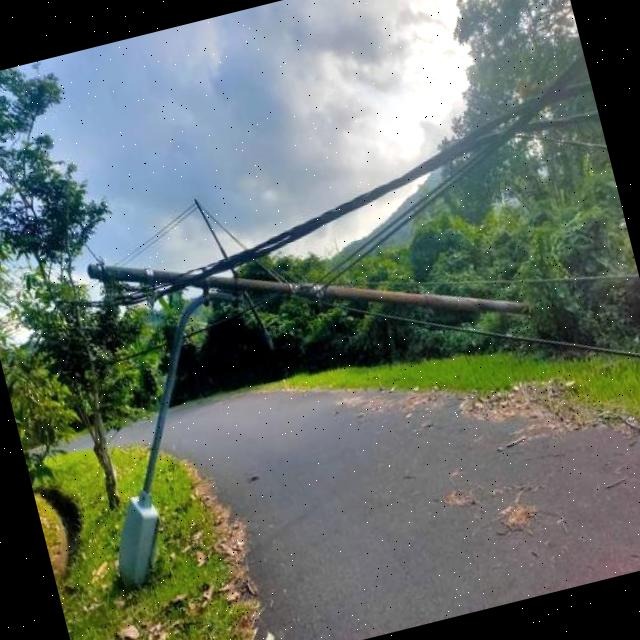Broken Pole: (72, 250, 527, 598)
